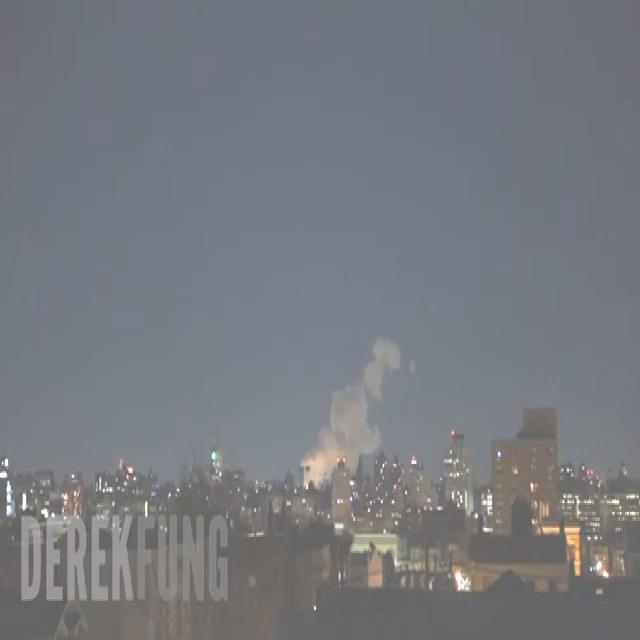smoke: (302, 336, 405, 480)
